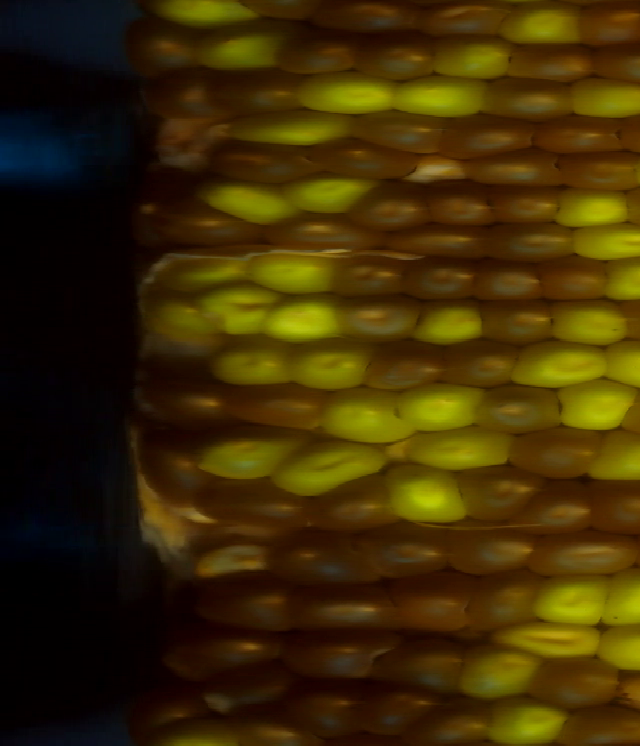fluorescent: (321, 383, 413, 449), (277, 438, 381, 495), (197, 430, 309, 478), (296, 69, 399, 119), (204, 178, 305, 228), (549, 376, 640, 430), (403, 424, 517, 467), (387, 464, 467, 524), (400, 382, 484, 438), (210, 335, 298, 387), (515, 339, 614, 385), (499, 618, 604, 661), (247, 249, 341, 297), (465, 638, 539, 698), (284, 172, 382, 217), (228, 112, 350, 148), (203, 20, 292, 69), (535, 570, 609, 628), (199, 280, 277, 335), (391, 78, 492, 118), (546, 302, 633, 348), (292, 340, 376, 387), (488, 695, 563, 746), (412, 299, 489, 348), (160, 250, 247, 292), (270, 297, 349, 341), (556, 185, 633, 228), (570, 71, 640, 118), (438, 37, 512, 80), (497, 7, 583, 43), (587, 427, 640, 485), (562, 222, 640, 260), (603, 570, 640, 625), (602, 620, 640, 672), (604, 254, 640, 303), (607, 335, 640, 388)
nonfluorescent: (142, 191, 266, 249), (193, 569, 297, 635), (197, 475, 317, 532), (210, 134, 321, 191), (291, 577, 397, 634), (372, 632, 468, 692), (144, 433, 218, 507), (307, 475, 399, 534), (361, 520, 456, 577), (310, 134, 420, 181), (342, 107, 454, 153), (270, 535, 368, 587), (509, 428, 609, 478), (440, 111, 536, 162), (484, 78, 583, 127), (454, 464, 542, 519), (389, 574, 467, 634), (282, 632, 379, 680), (446, 524, 535, 576), (462, 148, 567, 191), (271, 209, 378, 251), (535, 107, 621, 159), (272, 27, 363, 76), (161, 632, 281, 669), (136, 65, 218, 119), (530, 532, 640, 572), (354, 29, 435, 83), (403, 698, 496, 745), (478, 382, 557, 437), (354, 176, 434, 230), (531, 656, 620, 704), (468, 572, 539, 630), (218, 64, 300, 113), (424, 180, 496, 233), (503, 41, 596, 82), (520, 488, 596, 538), (538, 250, 610, 302), (279, 686, 362, 730), (487, 177, 561, 225), (358, 680, 439, 723), (128, 23, 196, 74), (488, 225, 578, 262), (557, 706, 640, 746), (124, 687, 202, 729), (587, 475, 640, 535), (558, 153, 635, 192), (200, 667, 283, 702), (235, 712, 319, 746), (592, 39, 640, 90), (579, 3, 640, 40)
